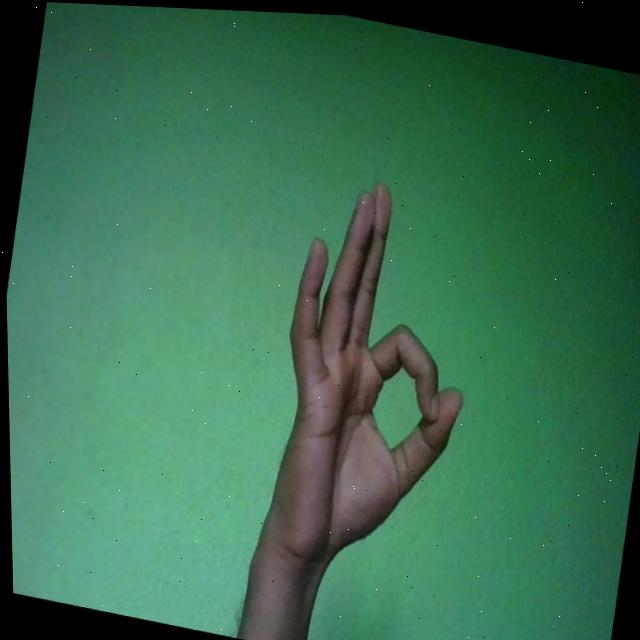Ok: (248, 164, 496, 593)
